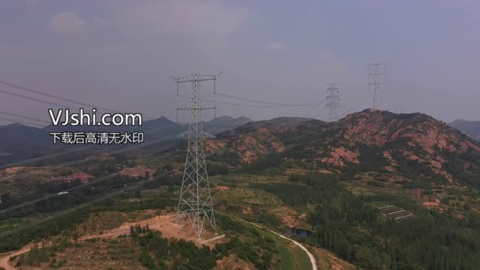tower_body: (166, 64, 226, 239), (367, 61, 390, 110), (325, 81, 343, 122)
tower_foot: (175, 199, 216, 236)
tower_head: (168, 67, 224, 88)
